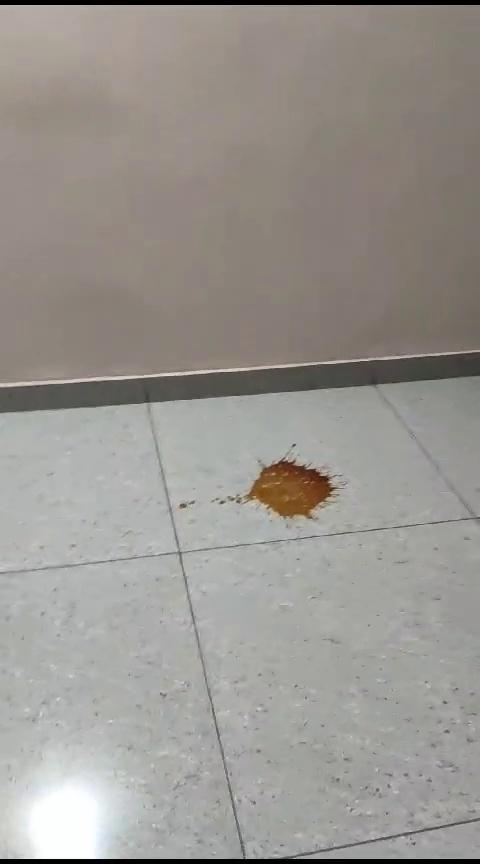dirty_floor: (175, 460, 356, 528)
